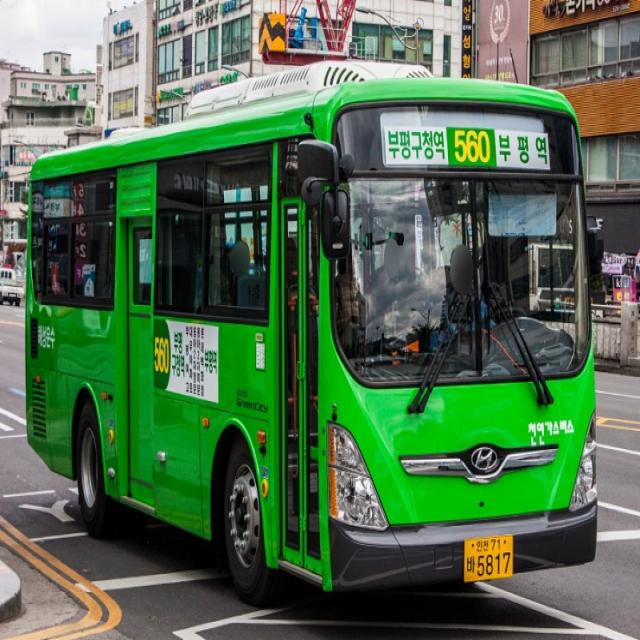bus-number: (454, 129, 491, 164)
